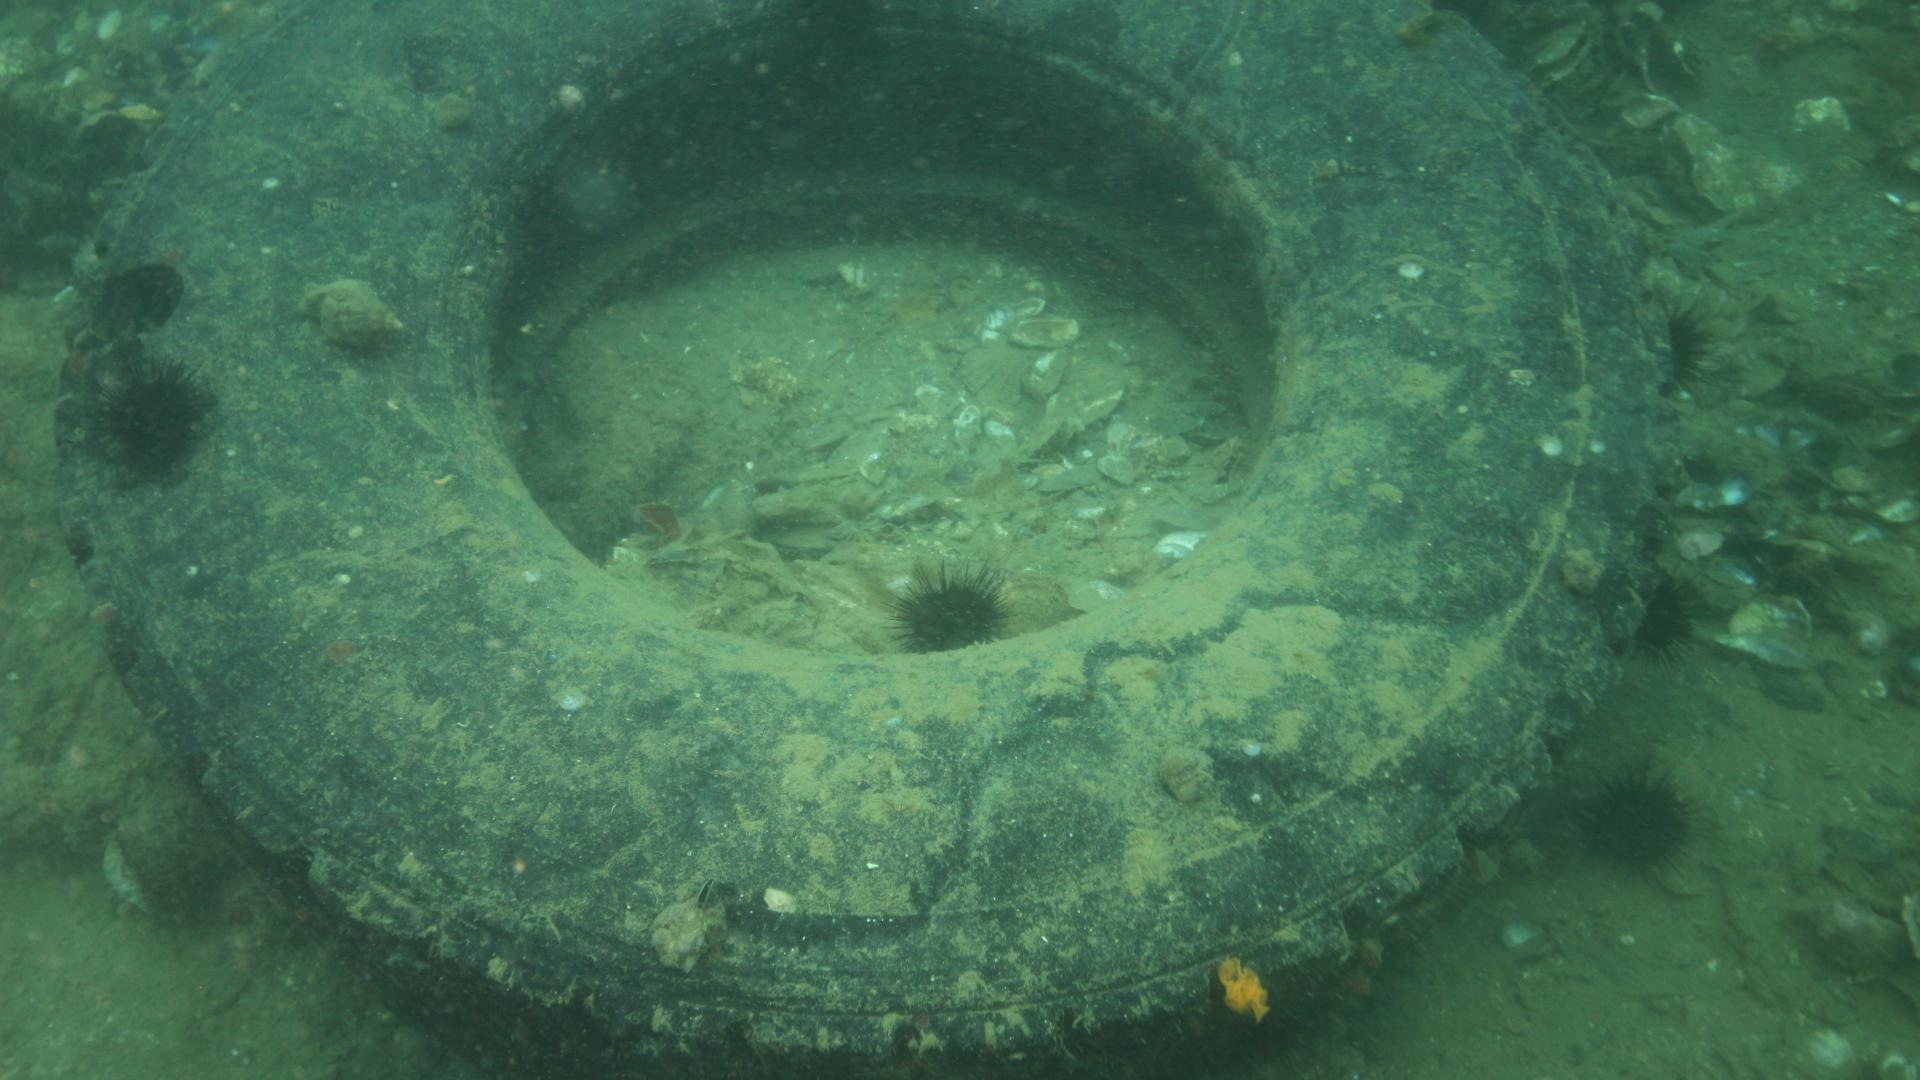tire: (74, 3, 1671, 1069)
